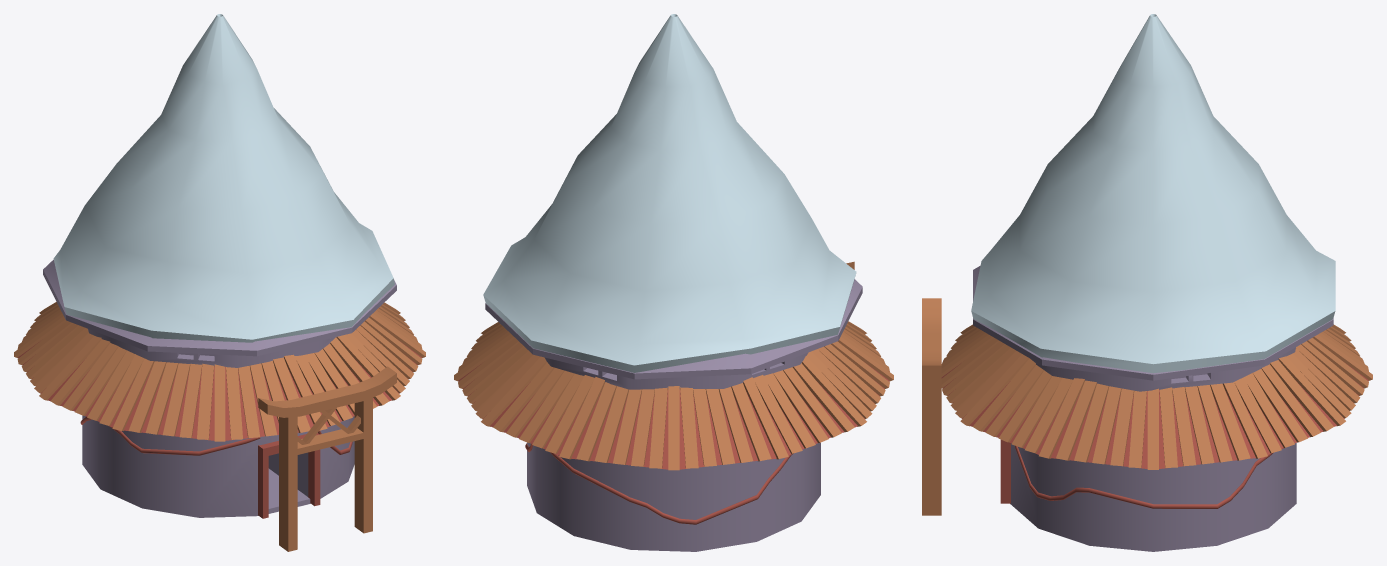
File: frozenhouse1.FBX
3 renders of one model, left to right at view 1: azimuth 30°, elevation 25°; view 2: azimuth 150°, elevation 25°; view 3: azimuth 270°, elevation 25°, orthographic. The views are drawn at different scales.
Visible parts, largest first — view 1: Object001, Cylinder001, Shape023, Cone001, Shape022, Shape024, Cone002, Shape025, Shape021, Shape003, Shape001, Shape026 (+12 smaller); view 2: Object001, Cylinder001, Shape031, Shape032, Shape021, Shape030, Cone002, Cone001, Shape022, Shape029, Cylinder002, Shape006 (+8 smaller); view 3: Object001, Cylinder001, Shape028, Shape027, Shape029, Shape026, Cone002, Shape025, Shape030, Cone001, Shape002, Cylinder002 (+10 smaller).
Part boxes in pixels (<box>): Object001: <box>53,14,394,342</box>; Cylinder001: <box>82,415,354,517</box>; Shape023: <box>128,361,214,439</box>; Cone001: <box>43,260,396,356</box>; Shape022: <box>50,339,144,425</box>; Shape024: <box>226,357,310,439</box>; Cone002: <box>18,342,421,440</box>; Shape025: <box>294,337,389,425</box>; Shape021: <box>17,321,93,393</box>; Shape003: <box>258,366,396,417</box>; Shape001: <box>279,414,297,551</box>; Shape026: <box>345,317,422,393</box>; Object001: <box>483,14,856,372</box>; Cylinder001: <box>527,442,820,551</box>; Shape031: <box>576,382,667,468</box>; Shape032: <box>680,383,771,468</box>; Shape021: <box>753,363,854,453</box>; Shape030: <box>493,362,594,453</box>; Cone002: <box>458,364,889,469</box>; Cone001: <box>485,279,862,379</box>; Shape022: <box>807,341,889,418</box>; Shape029: <box>458,338,540,418</box>; Cylinder002: <box>544,352,808,389</box>; Shape006: <box>525,443,793,524</box>; Object001: <box>971,14,1335,373</box>; Cylinder001: <box>1010,443,1296,551</box>; Shape028: <box>1159,383,1250,467</box>; Shape027: <box>1056,380,1146,467</box>; Shape029: <box>1234,360,1333,453</box>; Shape026: <box>972,358,1072,453</box>; Cone002: <box>941,363,1368,468</box>; Shape025: <box>941,338,1021,418</box>; Shape030: <box>1287,338,1368,418</box>; Cone001: <box>973,265,1333,380</box>; Shape002: <box>922,376,941,515</box>; Cylinder002: <box>1031,347,1295,391</box>.
Bounding box in the file's own units: 94.5 × 113 × 97.01.
